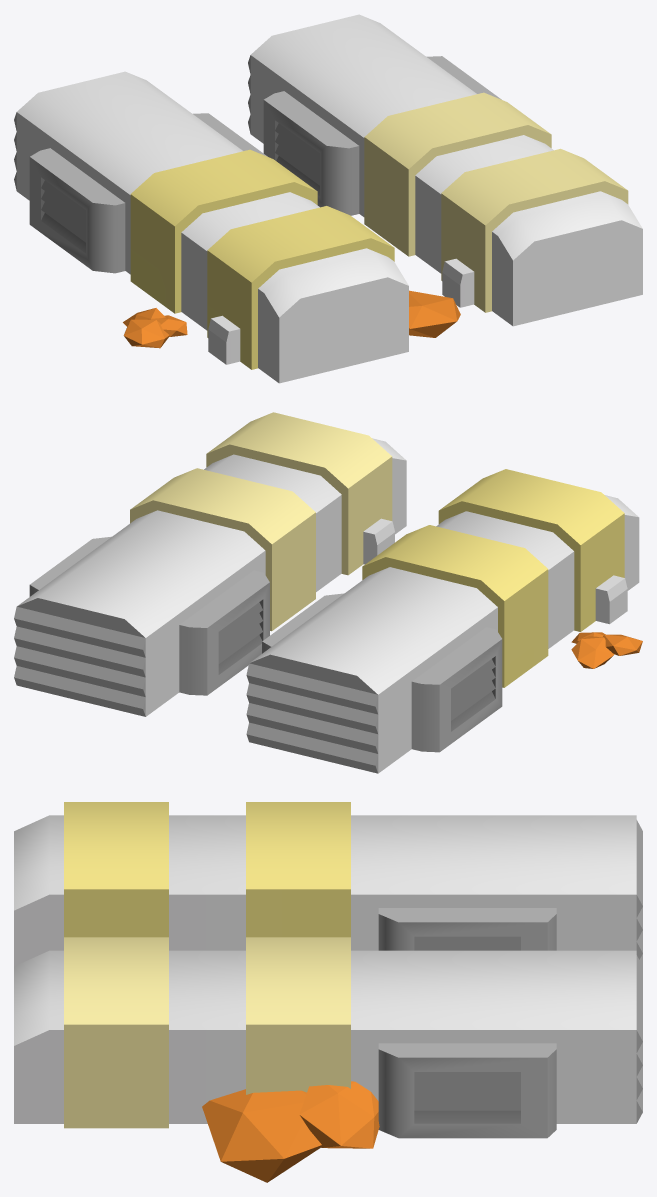
Rendered from Battery.glb.
The picture shows the model from 3 angles, top to bottom: view 1: azimuth 30°, elevation 25°; view 2: azimuth 150°, elevation 25°; view 3: azimuth 270°, elevation 25°; orthographic projection. The views are drawn at different scales.
Visible parts, largest first — view 1: Cube.012, Cube.039, Cube.038, Cube.042, Cylinder.003, Cube.036, Cube.040; view 2: Cube.012, Cube.039, Cube.037, Cube.041, Cube.038, Cube.042, Cube.040, Cube.036, Cylinder.003; view 3: Cube.039, Cube.012, Cylinder.003, Cube.042, Cube.038, Cube.040, Cube.036, Cube.041, Cube.037.
Boxes of the visible parts, x1,y1,x2,y2 form: Cube.012: (16, 71, 408, 383); Cube.039: (250, 14, 642, 326); Cube.038: (29, 113, 267, 273); Cube.042: (263, 56, 501, 215); Cylinder.003: (123, 290, 460, 348); Cube.036: (41, 177, 85, 253); Cube.040: (275, 120, 319, 196); Cube.012: (250, 469, 639, 773); Cube.039: (18, 412, 406, 716); Cube.037: (246, 654, 378, 773); Cube.041: (14, 598, 145, 716); Cube.038: (262, 593, 502, 752); Cube.042: (29, 536, 269, 695); Cube.040: (218, 599, 263, 674); Cube.036: (451, 656, 495, 731); Cylinder.003: (571, 632, 642, 668); Cube.039: (14, 937, 636, 1128); Cube.012: (14, 802, 636, 966); Cylinder.003: (202, 1081, 379, 1182); Cube.042: (378, 1043, 556, 1138); Cube.038: (378, 908, 556, 950); Cube.040: (414, 1072, 520, 1123); Cube.036: (414, 936, 520, 950); Cube.041: (636, 955, 642, 1123); Cube.037: (636, 820, 642, 965).
Size of the model in its own units: 3.8 by 0.9577 by 3.54.
1 material, 1 textured.
